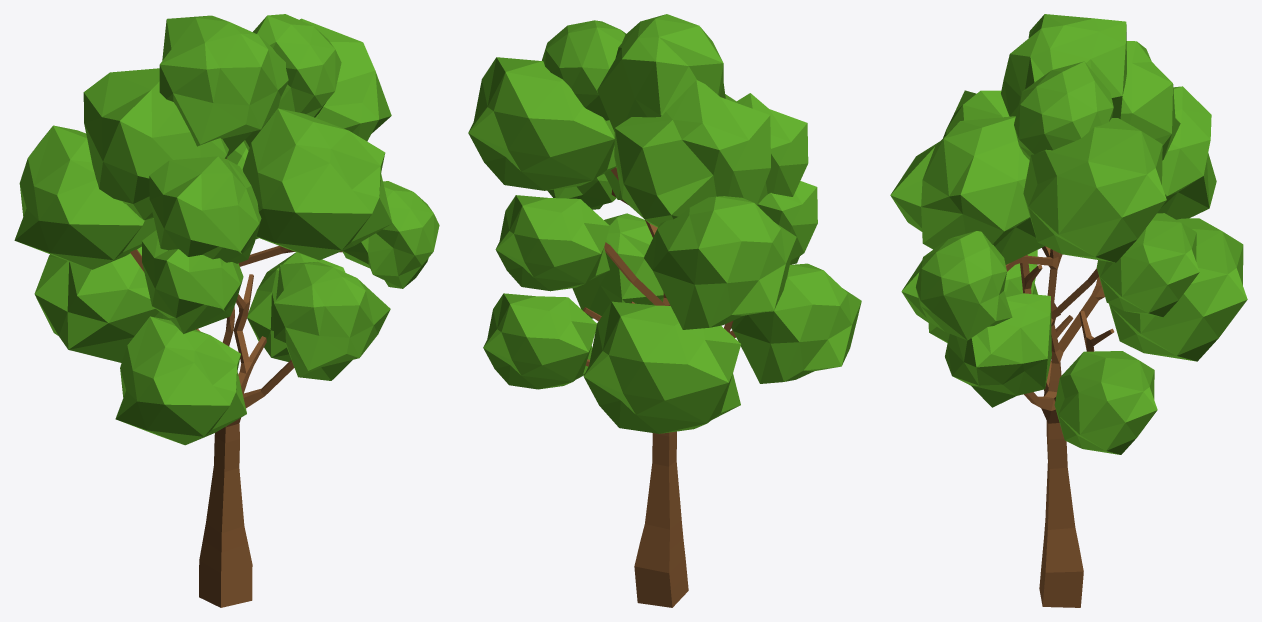
File: tree_02.glb
3 views of the same model, side by side, from view 1: azimuth 30°, elevation 25°; view 2: azimuth 150°, elevation 25°; view 3: azimuth 270°, elevation 25° (orthographic).
Parts seen in each view (by area): view 1: Icosphere.004, Cube; view 2: Icosphere.004, Cube; view 3: Icosphere.004, Cube.
Part boxes in pixels (bbox=[...]): Icosphere.004: bbox=[14, 14, 439, 445]; Cube: bbox=[130, 158, 342, 607]; Icosphere.004: bbox=[468, 14, 861, 433]; Cube: bbox=[583, 167, 736, 607]; Icosphere.004: bbox=[890, 14, 1247, 454]; Cube: bbox=[1005, 246, 1114, 607].
Bounding box in the file's own units: 15.91 × 26.85 × 15.04.
2 materials, 2 textured.
